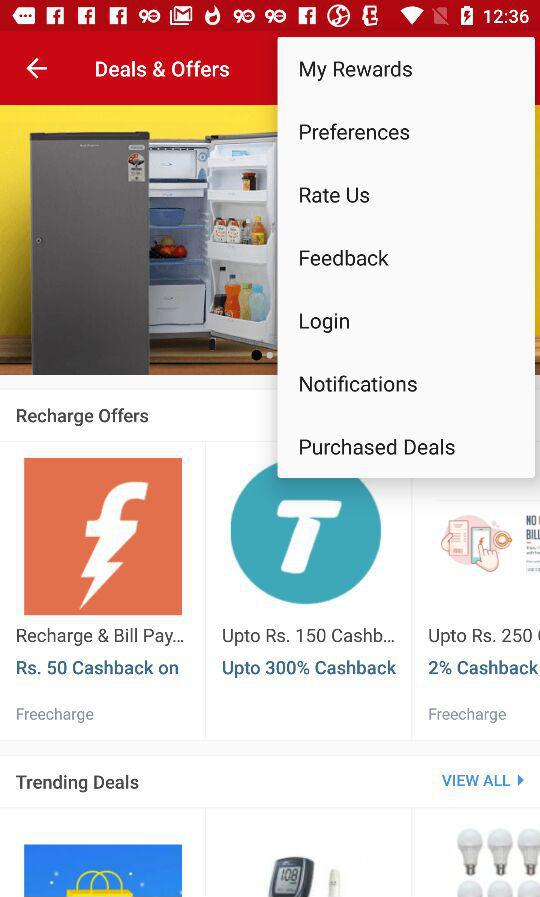Icon: (27, 58, 49, 80), (518, 774, 524, 786)
Image: (1, 106, 276, 376), (24, 458, 182, 616), (230, 465, 384, 605), (25, 844, 183, 896), (458, 826, 540, 896), (439, 513, 513, 573), (268, 856, 339, 897)
Modal: (277, 37, 536, 480)
Text: (223, 659, 397, 679), (223, 628, 396, 647), (16, 628, 184, 647), (299, 438, 456, 457), (17, 408, 150, 428), (299, 60, 413, 83), (17, 659, 179, 675), (16, 774, 139, 794), (96, 62, 231, 79), (299, 375, 418, 393), (299, 123, 410, 142), (428, 629, 540, 647), (300, 249, 390, 268), (428, 660, 540, 675), (299, 187, 370, 205), (428, 708, 507, 724), (17, 708, 94, 724), (299, 312, 350, 335), (442, 774, 510, 788)
UpperTaskBar: (1, 1, 540, 33)
